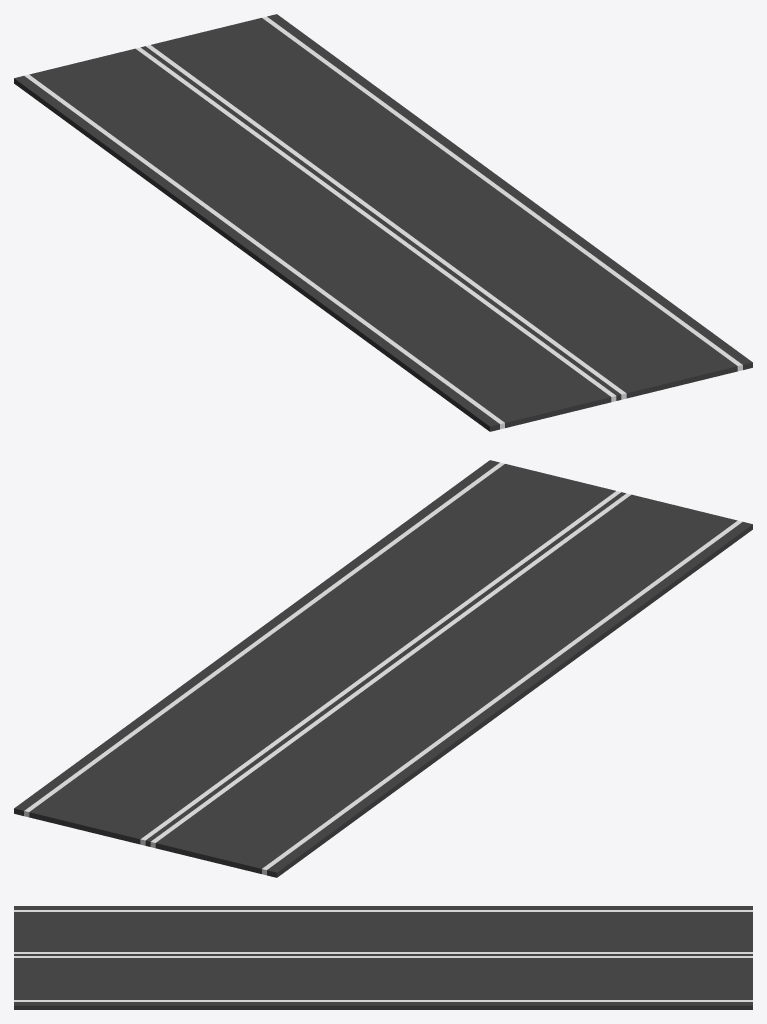
The model's file is first_map-6.obj.
3 renders of one model, top to bottom at view 1: azimuth 30°, elevation 25°; view 2: azimuth 150°, elevation 25°; view 3: azimuth 270°, elevation 25°, orthographic. The views are drawn at different scales.
Bounding box in the file's own units: 5.2 × 0.1 × 16.3.
1 material, 1 textured.
